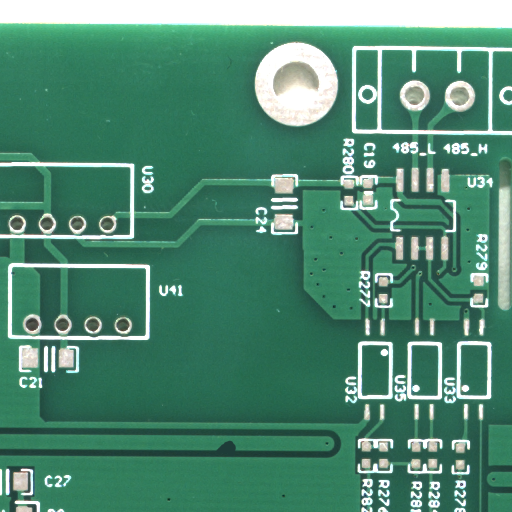Mouse_bite: (227, 447, 263, 465)
